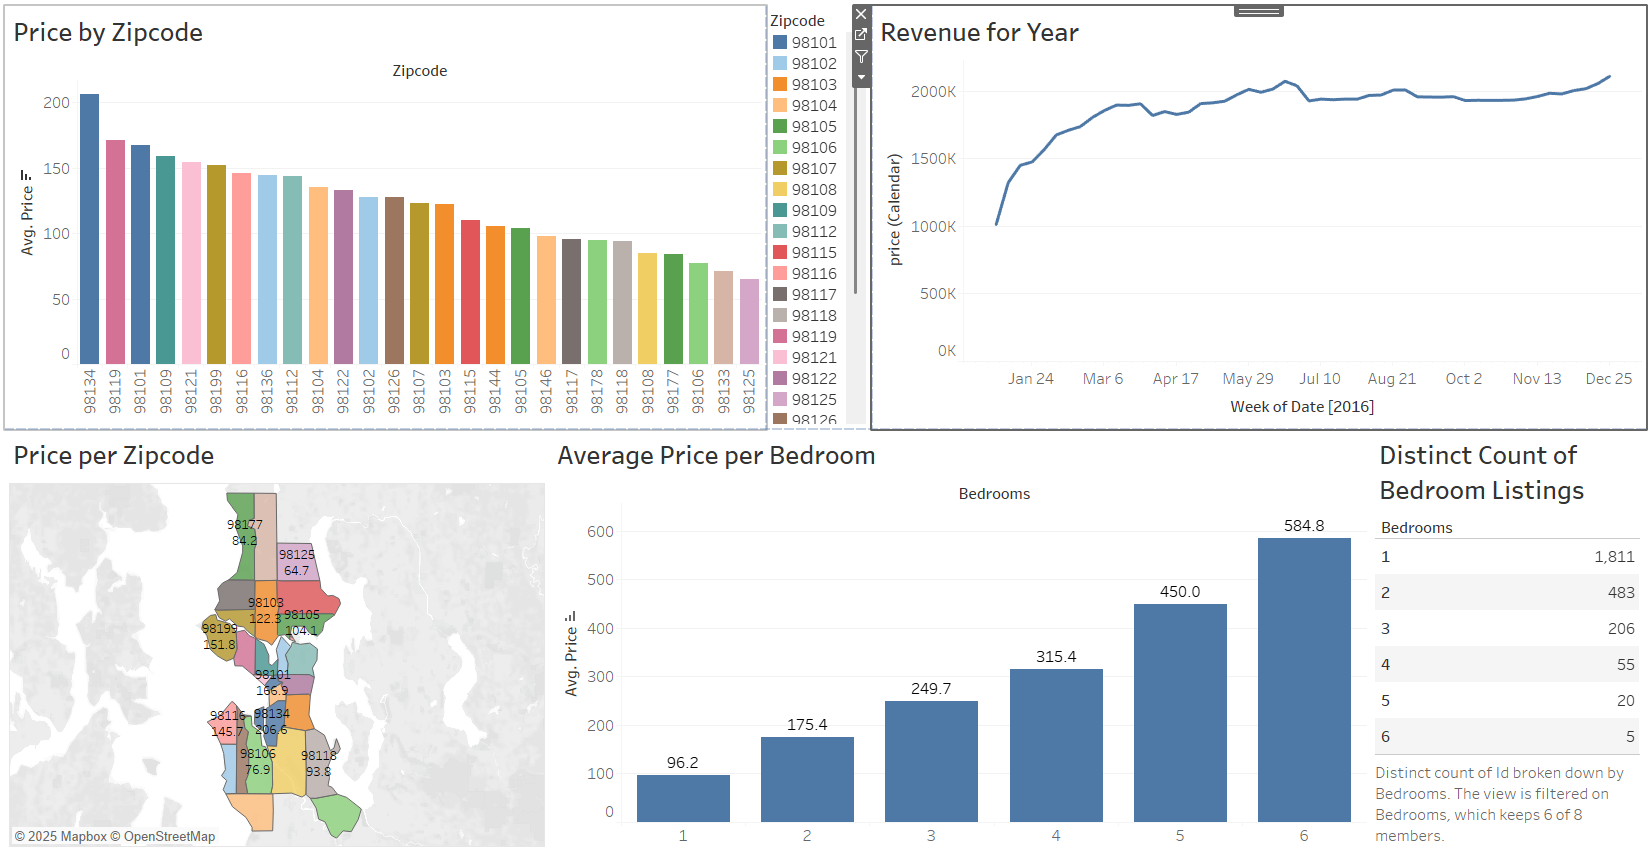

The page's visual inventory and layout, read from the dashboard file:
{"tool":"tableau","page":{"name":"Dashboard 1","canvas":[1000,1000],"units":"permille","ordinal":0},"visuals":[{"type":"worksheet","title":"Sheet 1","mark":"Automatic","rows":["price"],"cols":["zipcode"],"box":[9,9.4,455.4,490.6]},{"type":"legend","title":"Sheet 1","param":"[federated.1ypd03w0ncxp9a1anvg6s0amdnty].[none:zipcode:ok]","box":[464.4,9.4,63.4,490.6]},{"type":"worksheet","title":"Sheet 3","mark":"Automatic","rows":["price (Calendar)"],"cols":["date"],"box":[527.8,9.4,463.2,490.6]},{"type":"worksheet","title":"Sheet 2","mark":"Multipolygon","box":[9,500,325.5,490.6]},{"type":"worksheet","title":"Sheet 4","mark":"Automatic","rows":["price"],"cols":["bedrooms"],"box":[334.5,500,491.9,490.6]},{"type":"worksheet","title":"Sheet 5","mark":"Automatic","rows":["bedrooms"],"box":[826.4,500,164.6,490.6]}]}

Visuals, with their boxes on the dashboard's canvas, which has no fixed pixel size, in thousandths of its width and height (x1, y1, x2, y2). These are canvas units, not pixel positions in the 1651x857 screenshot, which may show the page scaled, cropped or inside an application window:
"Sheet 1" worksheet: x1=9, y1=9, x2=464, y2=500
"Sheet 1" legend: x1=464, y1=9, x2=528, y2=500
"Sheet 3" worksheet: x1=528, y1=9, x2=991, y2=500
"Sheet 2" worksheet (Multipolygon marks): x1=9, y1=500, x2=334, y2=991
"Sheet 4" worksheet: x1=334, y1=500, x2=826, y2=991
"Sheet 5" worksheet: x1=826, y1=500, x2=991, y2=991
